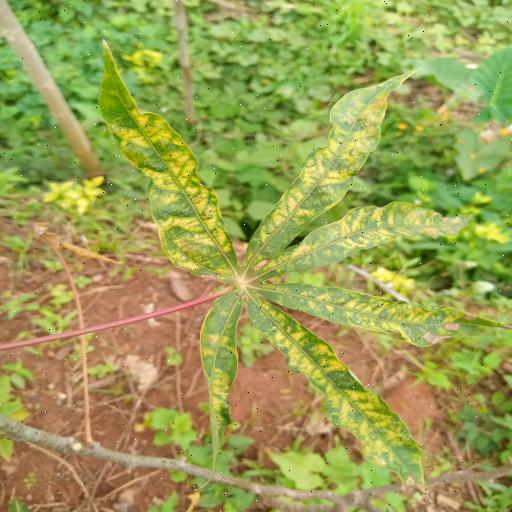Cassava_Mosaic: (95, 34, 511, 490)
